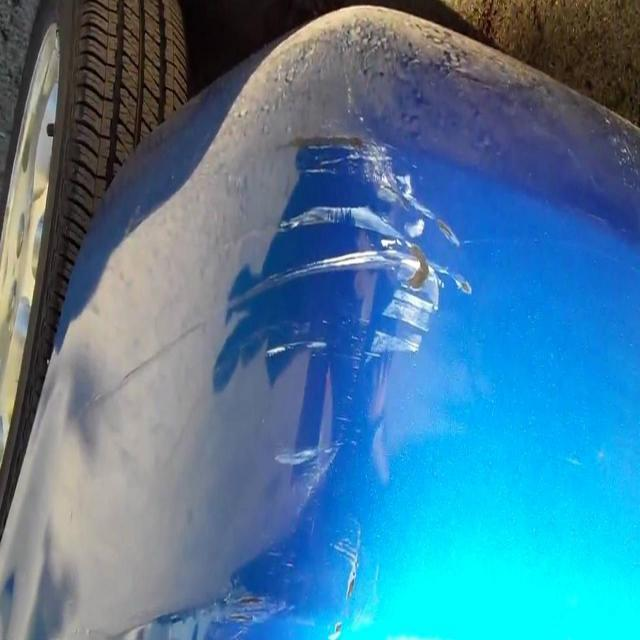scratch: (212, 130, 490, 565)
